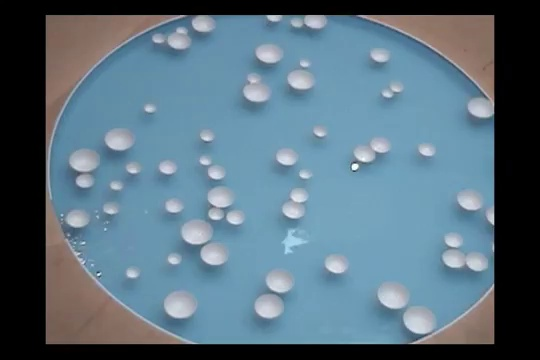bowl: (403, 304, 439, 335), (162, 290, 200, 319), (376, 281, 413, 310), (65, 147, 103, 171), (180, 218, 214, 244), (254, 293, 286, 320), (105, 127, 139, 151), (265, 268, 296, 294), (206, 184, 237, 208), (256, 43, 287, 67), (457, 186, 486, 211), (200, 242, 231, 265), (468, 95, 494, 120), (324, 252, 352, 275), (352, 143, 380, 166), (243, 83, 272, 105), (287, 70, 317, 91), (165, 30, 192, 52), (191, 14, 219, 35), (465, 249, 489, 273), (65, 207, 91, 229), (280, 201, 310, 220), (441, 248, 468, 269), (275, 146, 300, 167), (74, 174, 99, 191), (225, 207, 247, 226), (207, 163, 228, 181), (304, 15, 331, 29), (443, 231, 465, 248), (158, 158, 178, 176), (371, 46, 392, 63), (371, 136, 392, 153), (417, 141, 438, 158), (290, 187, 309, 203), (164, 197, 184, 212), (312, 123, 329, 140), (167, 250, 185, 266), (124, 262, 141, 278), (207, 207, 226, 221), (199, 128, 215, 144), (104, 201, 121, 216), (126, 160, 142, 175), (390, 79, 406, 94), (109, 178, 125, 192), (290, 15, 306, 29), (298, 168, 315, 181), (245, 71, 262, 84), (198, 152, 213, 166), (143, 102, 158, 115), (381, 87, 396, 100), (485, 203, 493, 226), (151, 32, 165, 44), (266, 15, 284, 24), (299, 56, 311, 68), (176, 25, 189, 34), (490, 241, 495, 256)
